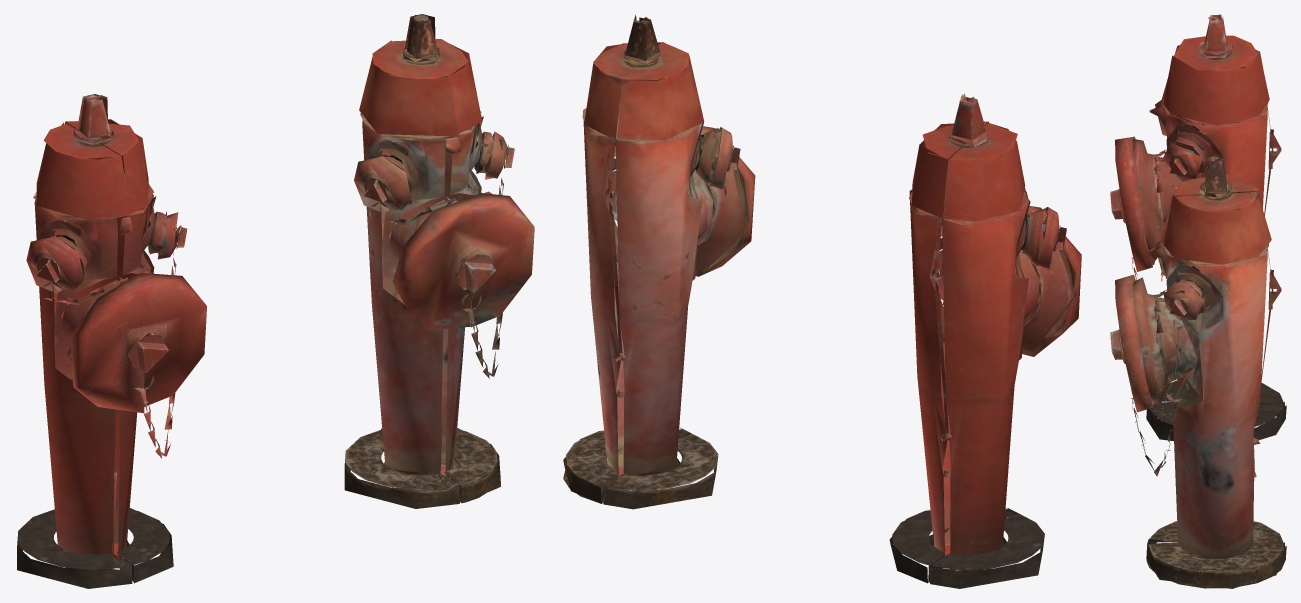
File: ph_fire_hydrant.glb
The picture shows the model from 3 angles, left to right: view 1: azimuth 30°, elevation 25°; view 2: azimuth 150°, elevation 25°; view 3: azimuth 270°, elevation 25°; orthographic projection. The views are drawn at different scales.
Parts seen in each view (by area): view 1: fire_hydrant; view 2: fire_hydrant; view 3: fire_hydrant.
Boxes of the visible parts, x1,y1,x2,y2 form: fire_hydrant: (17,14,534,588); fire_hydrant: (563,14,1081,588); fire_hydrant: (1110,14,1286,588).
Bounding box in the file's own units: 0.8728 × 0.8061 × 0.319.
Materials: 2 (2 with a texture image).
